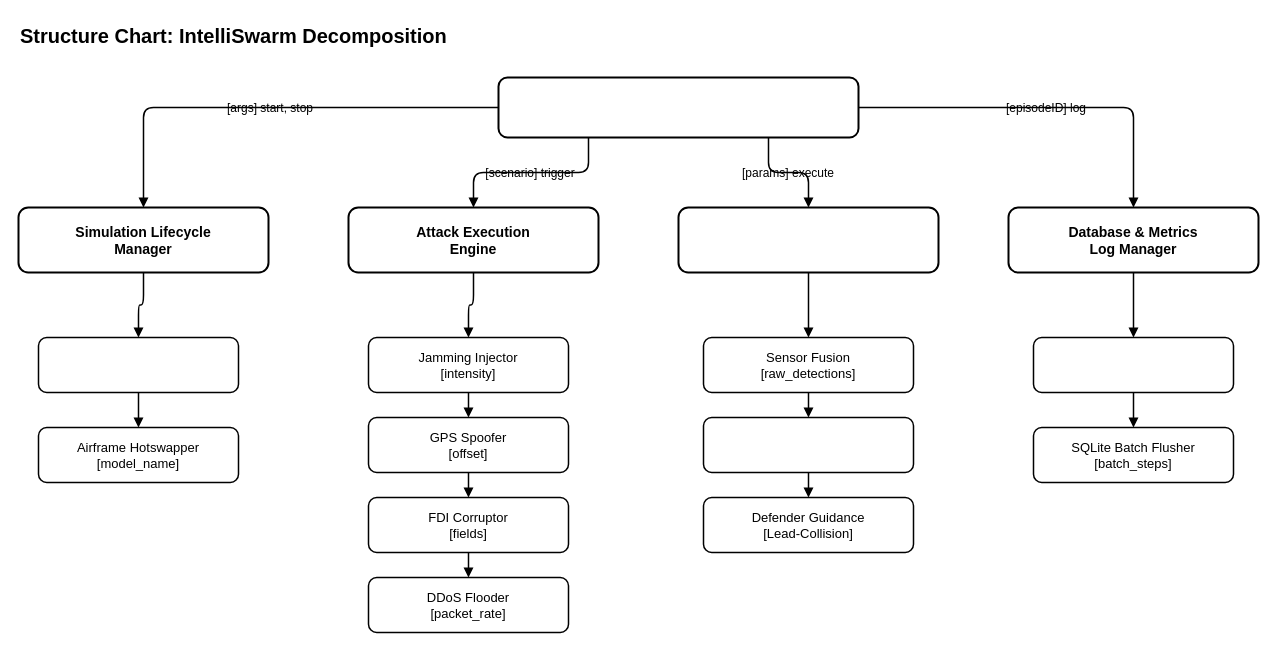
Image size: 1276x650. Some labels were removed from this diagram. Here are the shapes that lost their labels. From the top down, the box of each, then its label:
(497, 76, 859, 138): IntelliSwarm Master Orchestrator
(677, 206, 939, 273): Active Swarm Control (10 Hz Coordinator)
(37, 336, 239, 393): Weather Controller [speed, dir]
(1032, 336, 1234, 393): Reward Evaluator [prev, curr]
(702, 416, 914, 473): Attacker Guidance [APF + VO]
